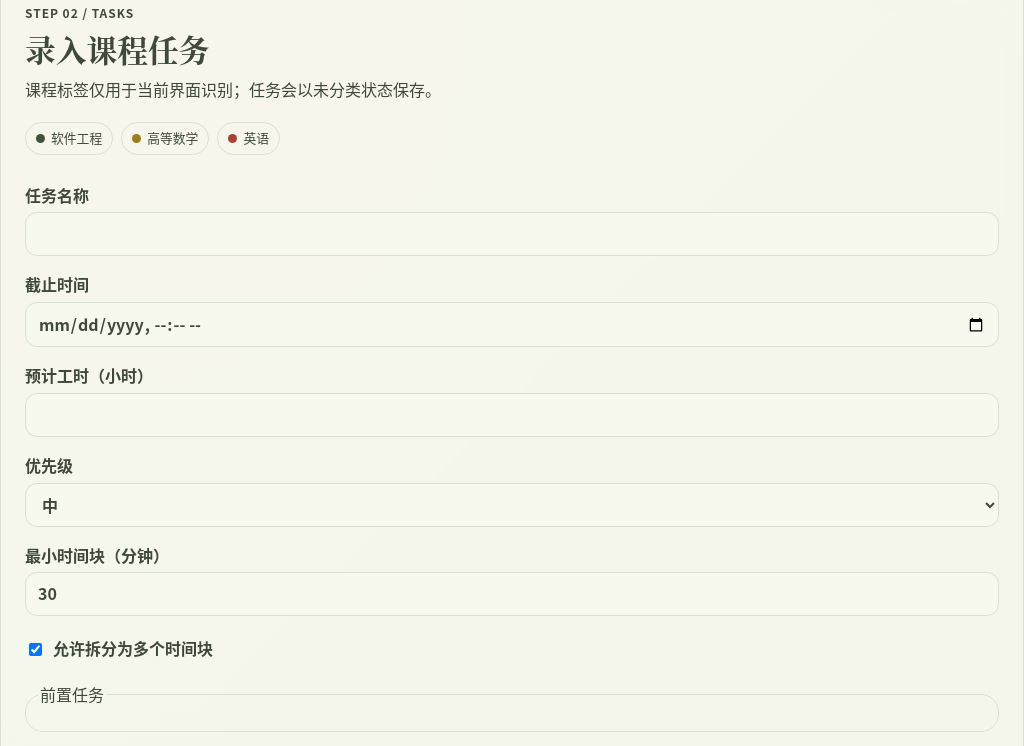
Scenario: TaskStep › creates 高等数学作业 with its deadline, hours, and priority
The width and height of the screenshot is (1024, 746).
Type "高等数学作业" into the field labelled "任务名称".
click(512, 234); type("高等数学作业")  # box x1=25 y1=212 x2=999 y2=256
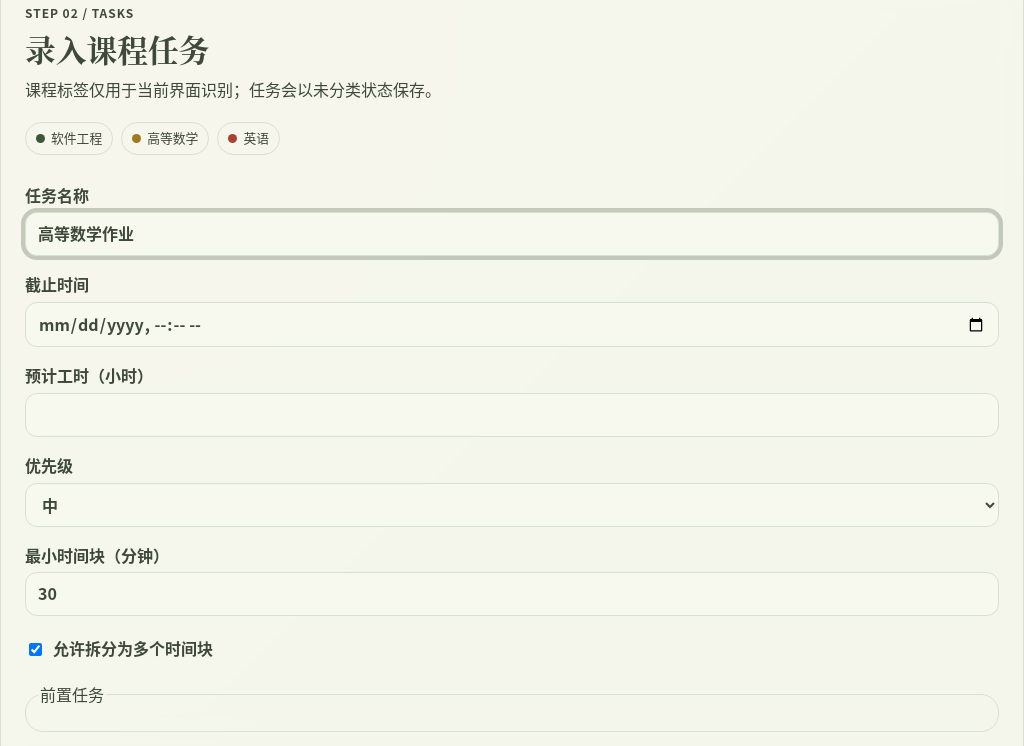
Type "2026-08-20T20:00" into the field labelled "截止时间".
click(512, 325); type("2026-08-20T20:00")  # box x1=25 y1=302 x2=999 y2=347
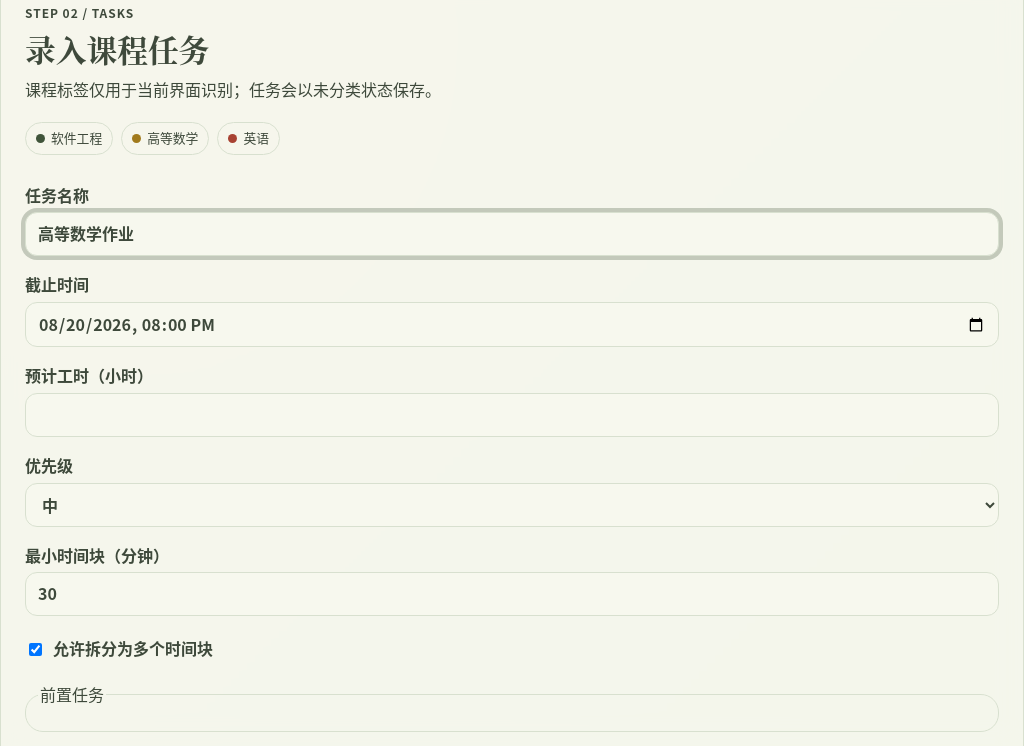
Type "4" into the number field labelled "预计工时（小时）".
click(512, 415); type("4")  # box x1=25 y1=393 x2=999 y2=437
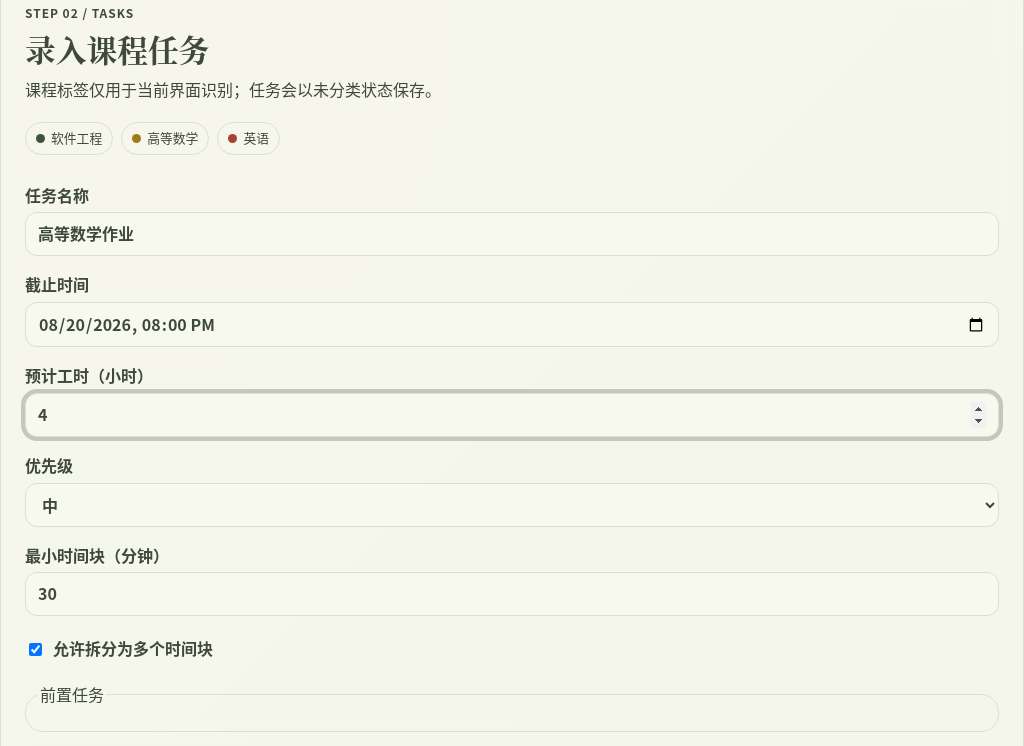
Select "中" in the dropdown labelled "优先级" at (512, 505), box x1=25 y1=483 x2=999 y2=527
(page scrolled)
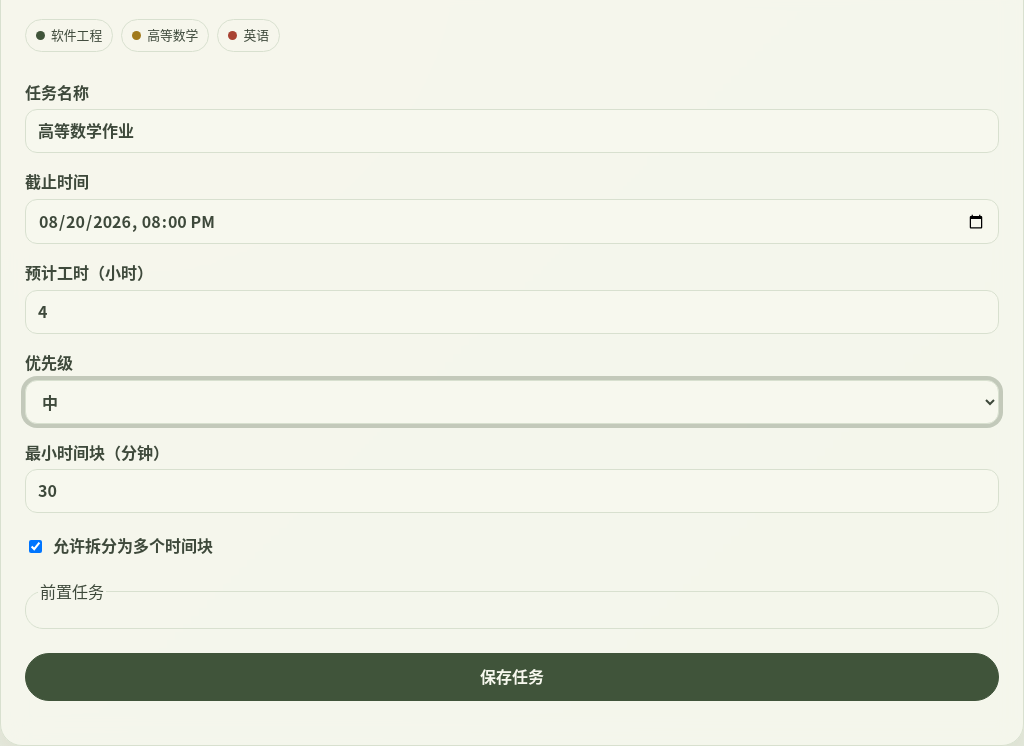
Click the button "保存任务".
click(512, 677)  # box x1=25 y1=653 x2=999 y2=701
(page scrolled)
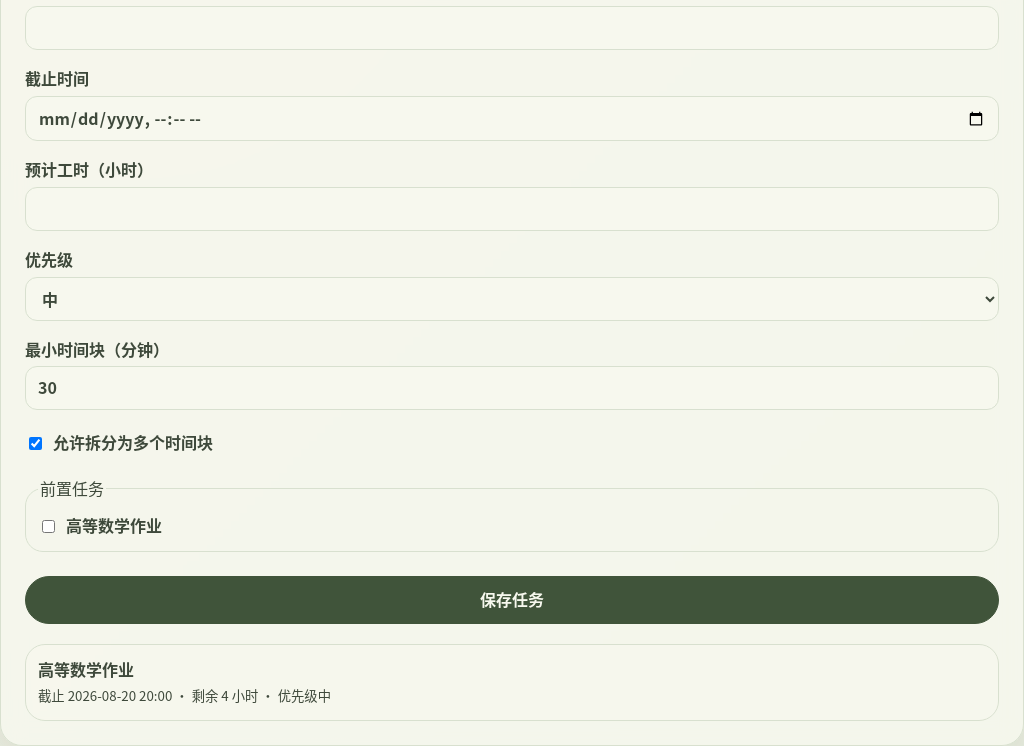
Check: the text "高等数学作业" is shown, box x1=38 y1=657 x2=134 y2=681
Check: the text "优先级中" is shown, box x1=278 y1=686 x2=331 y2=705
